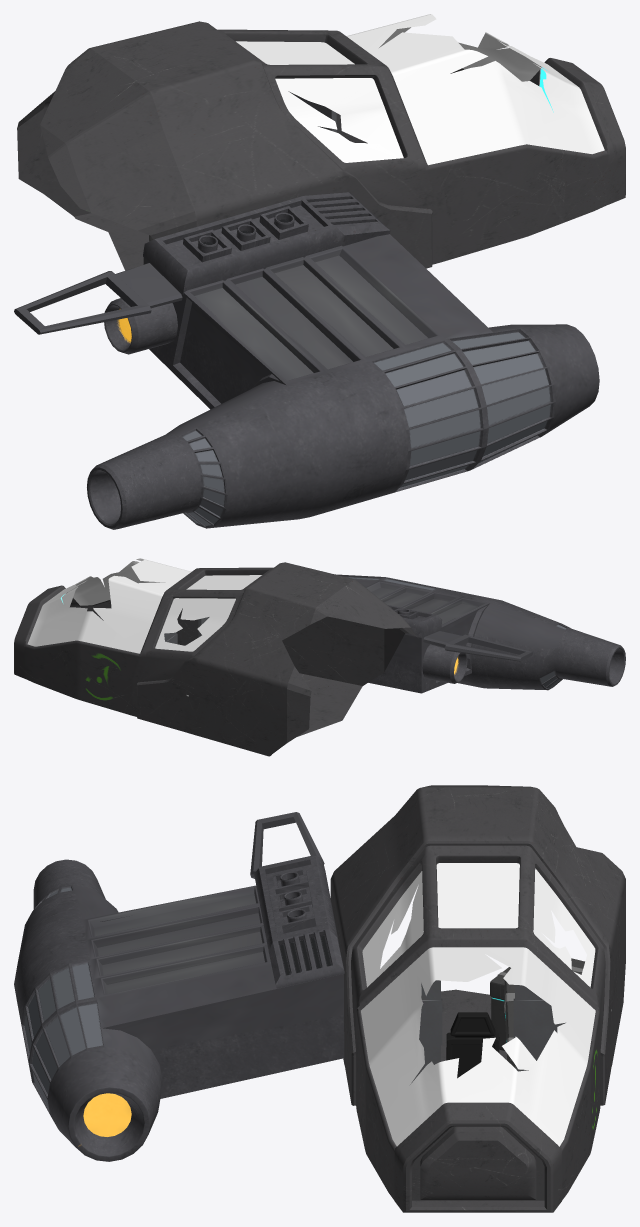
Rendered from Broken Ship.fbx.
3 views of the same model, one above another, from view 1: azimuth 30°, elevation 25°; view 2: azimuth 150°, elevation 25°; view 3: azimuth 270°, elevation 25° (orthographic). The views are drawn at different scales.
Visible parts, largest first — view 1: pCube31; view 2: pCube31; view 3: pCube31, Door:pCube6.
Part boxes in pixels (x1,y1,x2,y2): pCube31: [14, 14, 625, 529]; pCube31: [14, 558, 625, 756]; pCube31: [14, 785, 625, 1212]; Door:pCube6: [490, 958, 584, 1050].
Bounding box in the file's own units: 20.87 × 8.21 × 16.39.
